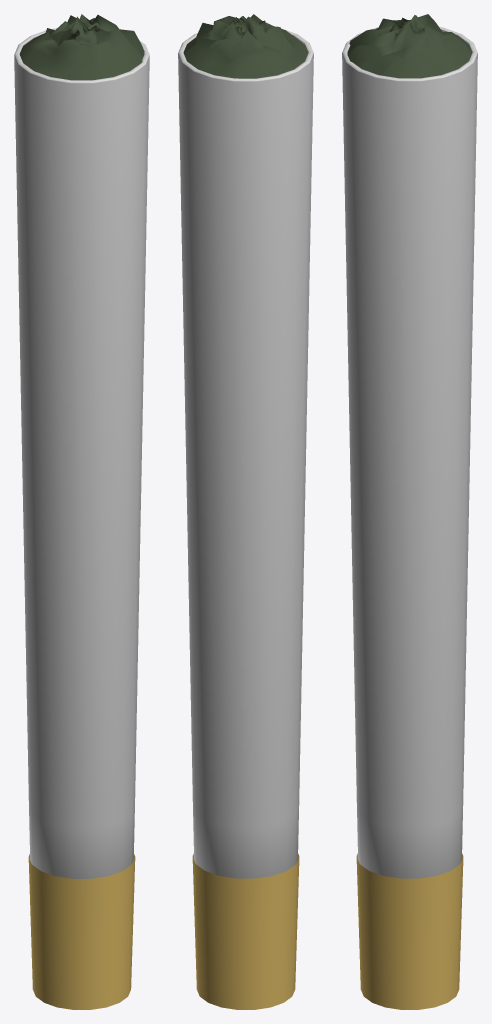
File: Blunt.glb
3 renders of one model, left to right at view 1: azimuth 90°, elevation 25°; view 2: azimuth 210°, elevation 25°; view 3: azimuth 270°, elevation 25°, orthographic.
Parts seen in each view (by area): view 1: bout_cigarre, Cylinder.002, Cylinder.001; view 2: bout_cigarre, Cylinder.002, Cylinder.001; view 3: bout_cigarre, Cylinder.002, Cylinder.001.
Part boxes in pixels (x1=…): bout_cigarre: x1=14, y1=28, x2=149, y2=878; Cylinder.002: x1=28, y1=854, x2=135, y2=1009; Cylinder.001: x1=19, y1=14, x2=144, y2=80; bout_cigarre: x1=178, y1=28, x2=313, y2=878; Cylinder.002: x1=192, y1=853, x2=299, y2=1009; Cylinder.001: x1=183, y1=14, x2=308, y2=78; bout_cigarre: x1=342, y1=27, x2=477, y2=878; Cylinder.002: x1=356, y1=853, x2=463, y2=1009; Cylinder.001: x1=347, y1=14, x2=472, y2=78.
Size of the model in its own units: 0.4065 by 3.27 by 0.4128.
